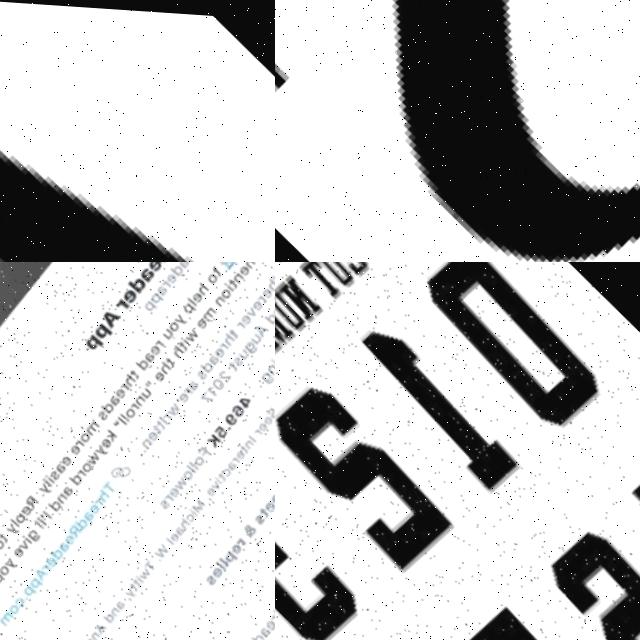0: (403, 262, 621, 439), (207, 368, 223, 385)
1: (340, 307, 532, 499), (203, 378, 216, 390)
2: (275, 362, 466, 577), (212, 361, 229, 378)
3: (275, 445, 377, 640)
4: (232, 386, 250, 404)
5: (611, 427, 640, 640), (209, 416, 225, 433)
6: (520, 502, 640, 640), (225, 394, 243, 412)
7: (437, 584, 640, 640), (194, 382, 212, 400)
9: (219, 403, 235, 420)
S: (275, 0, 640, 262)
